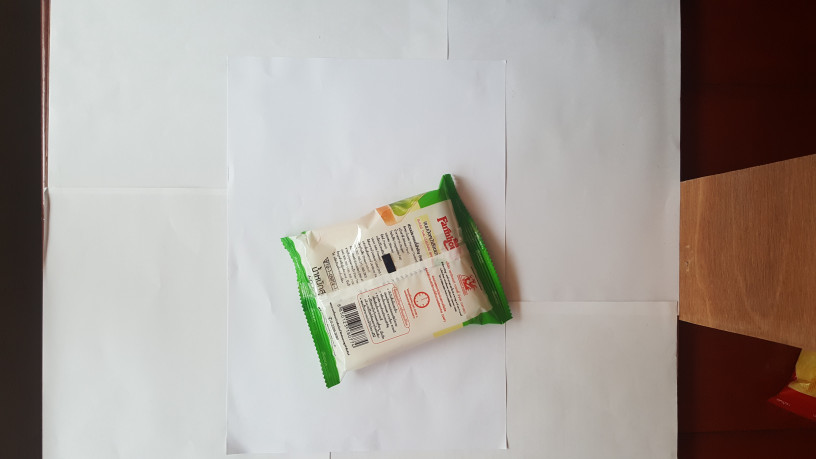farmhouse-bread-pandan: (267, 175, 519, 391)
